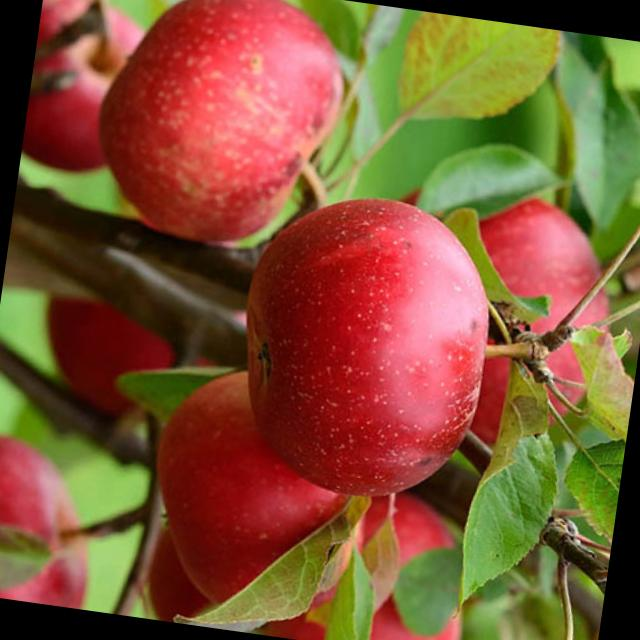apple_fruit: (119, 174, 521, 623), (200, 173, 521, 536), (72, 0, 378, 257)
